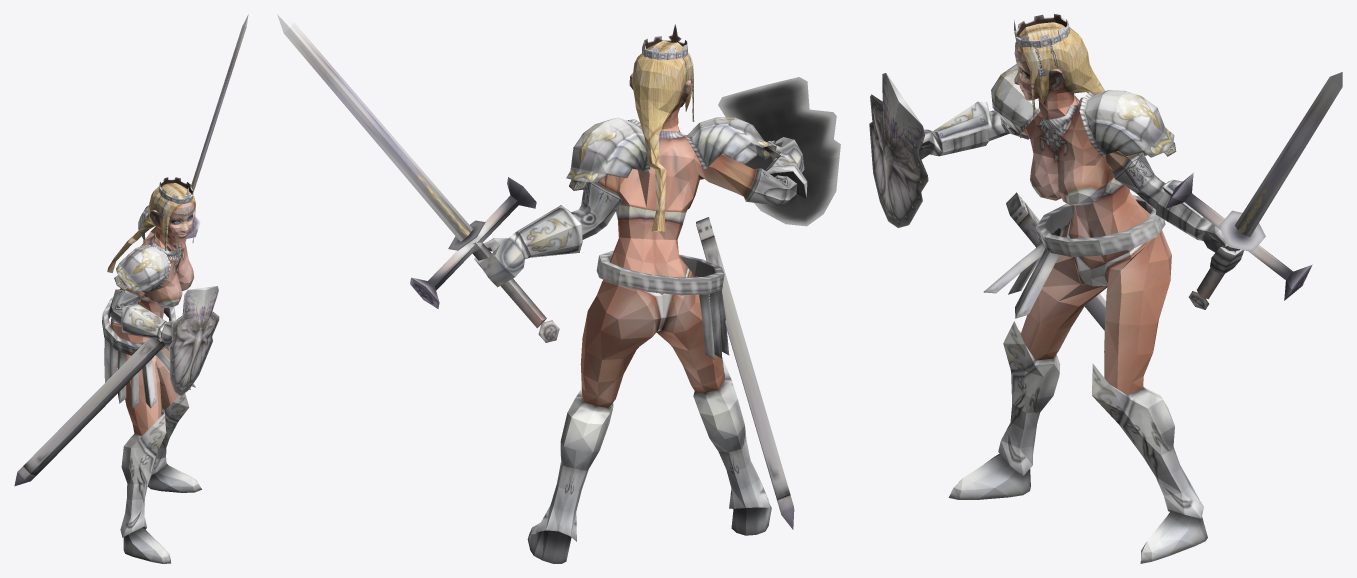
The model's file is Sword Princess.fbx.
The picture shows the model from 3 angles, left to right: view 1: azimuth 30°, elevation 25°; view 2: azimuth 150°, elevation 25°; view 3: azimuth 270°, elevation 25°; orthographic projection. The views are drawn at different scales.
Parts seen in each view (by area): view 1: Body, Belt, Shield, Sword; view 2: Body, Sword, Belt, Shield; view 3: Body, Sword, Shield, Belt, Armor Piece 1, Armor Piece 2.
Boxes of the visible parts, left/top/right/bottom form: Body: left=107, top=177, right=201, bottom=563; Belt: left=14, top=297, right=176, bottom=486; Shield: left=169, top=286, right=219, bottom=396; Sword: left=184, top=14, right=248, bottom=242; Body: left=474, top=24, right=807, bottom=563; Sword: left=277, top=14, right=559, bottom=342; Belt: left=596, top=217, right=794, bottom=529; Shield: left=718, top=77, right=840, bottom=226; Body: left=919, top=14, right=1244, bottom=563; Sword: left=1165, top=72, right=1342, bottom=309; Shield: left=869, top=73, right=928, bottom=227; Belt: left=1006, top=192, right=1165, bottom=330; Armor Piece 1: left=1015, top=248, right=1059, bottom=318; Armor Piece 2: left=983, top=243, right=1044, bottom=293.
Size of the model in its own units: 1345 by 1690 by 1257.
1 material, 1 textured.
